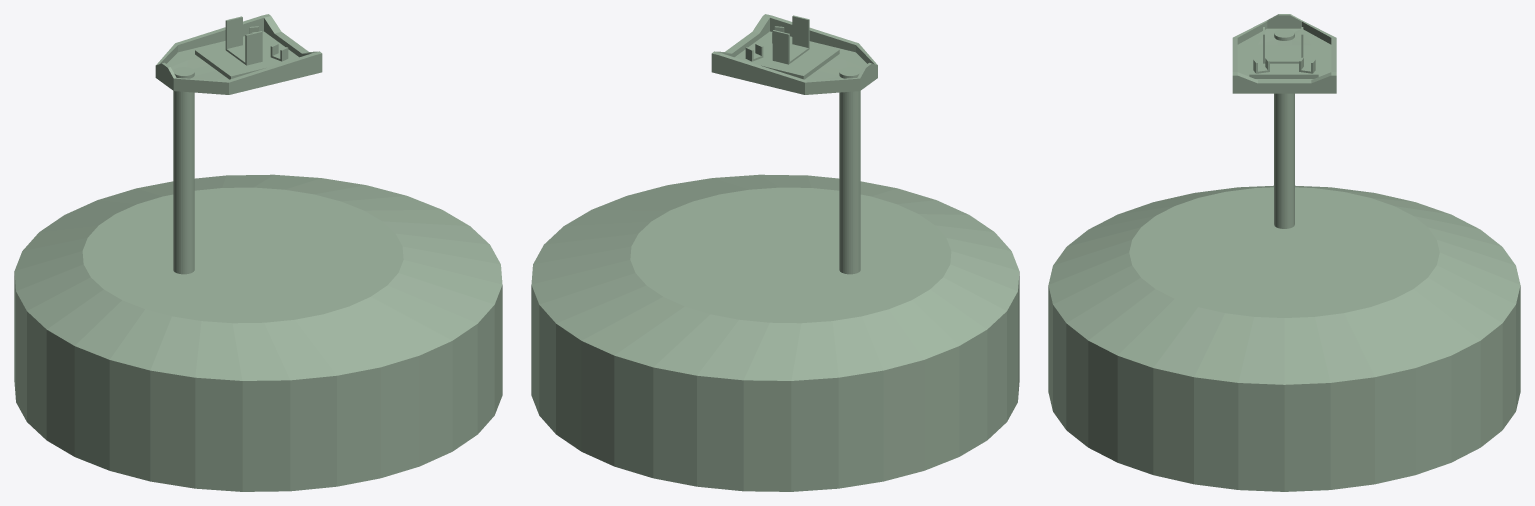
The picture shows the model from 3 angles, left to right: view 1: azimuth 30°, elevation 25°; view 2: azimuth 150°, elevation 25°; view 3: azimuth 270°, elevation 25°; orthographic projection. The views are drawn at different scales.
Visible parts, largest first — view 1: root; view 2: root; view 3: root.
Part boxes in pixels (<box>): root: <box>14,14,502,491</box>; root: <box>531,14,1019,491</box>; root: <box>1048,14,1520,491</box>.
Size of the model in its own units: 0.6807 by 0.6807 by 0.5635.
